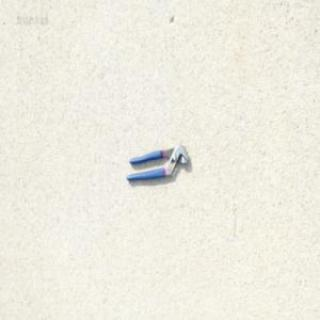Pliertrack_idkeyframe: (125, 142, 190, 182)
